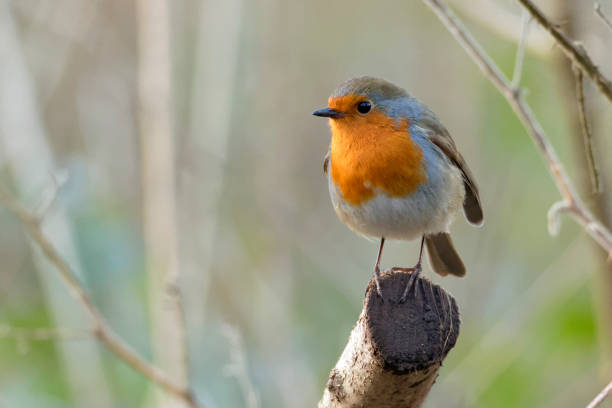Bird: (307, 73, 486, 305)
